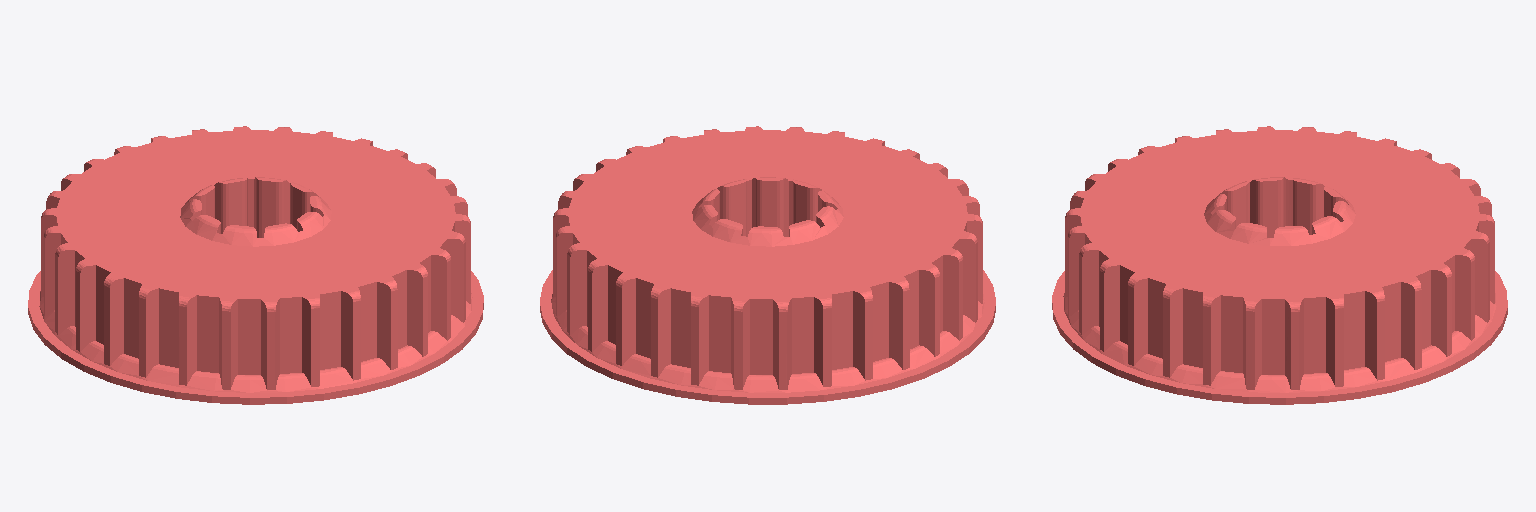
The model's file is solo12_hip_fe_17.obj.
The picture shows the model from 3 angles: view 1: azimuth 30°, elevation 25°; view 2: azimuth 150°, elevation 25°; view 3: azimuth 270°, elevation 25°; orthographic projection.
Size of the model in its own units: 0.03 by 0.0076 by 0.03.